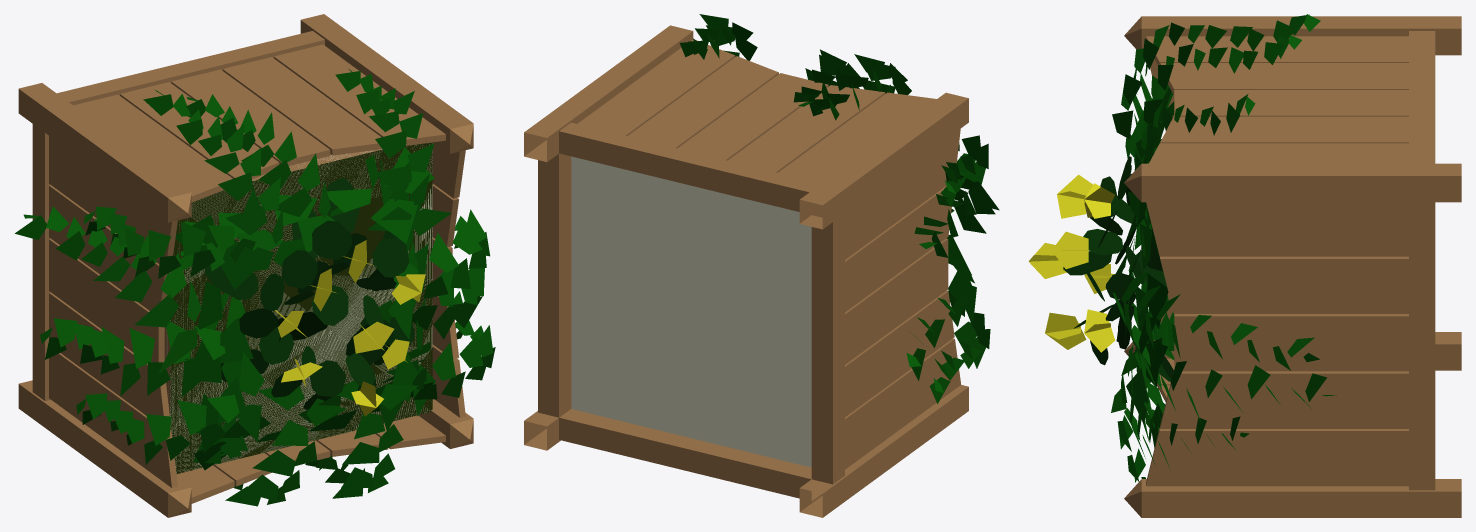
3 renders of one model, left to right at view 1: azimuth 30°, elevation 25°; view 2: azimuth 150°, elevation 25°; view 3: azimuth 270°, elevation 25°, orthographic. The views are drawn at different scales.
Visible parts, largest first — view 1: wood square planter; view 2: wood square planter; view 3: wood square planter.
Boxes of the visible parts, x1,y1,x2,y2 form: wood square planter: [15, 14, 495, 517]; wood square planter: [524, 14, 999, 517]; wood square planter: [1028, 14, 1461, 517].
Size of the model in its own units: 52.25 by 47.88 by 44.46.
